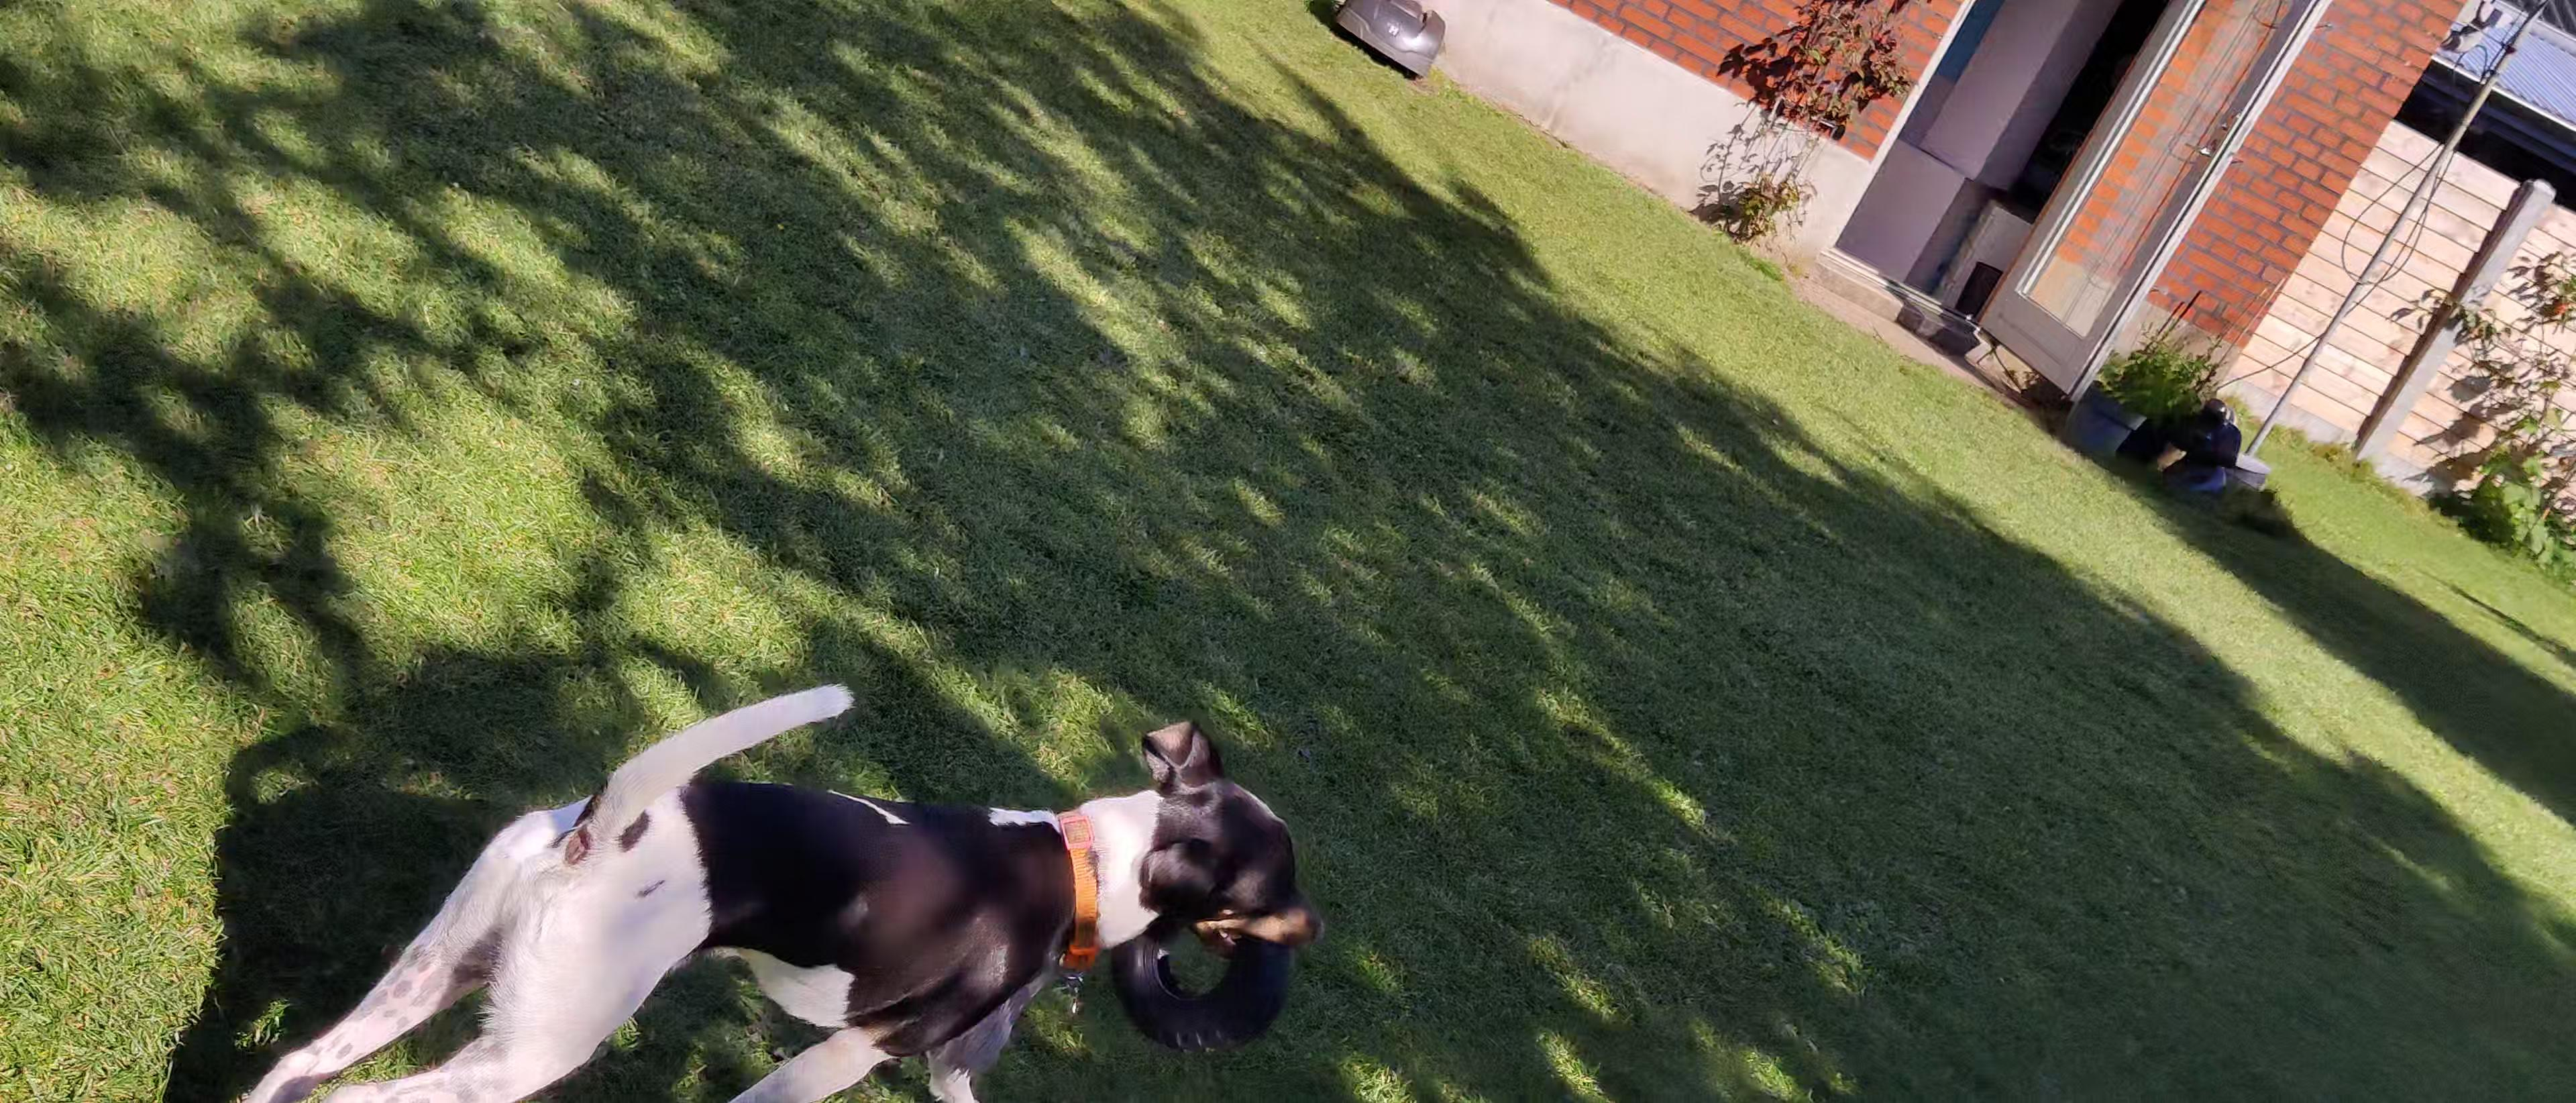Dog: (220, 682, 1327, 1103)
